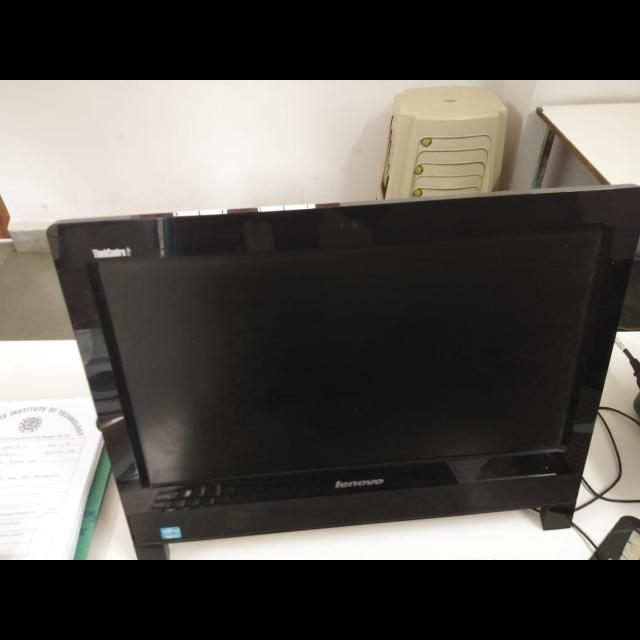Flat-Panel-Monitor: (42, 182, 640, 558)
